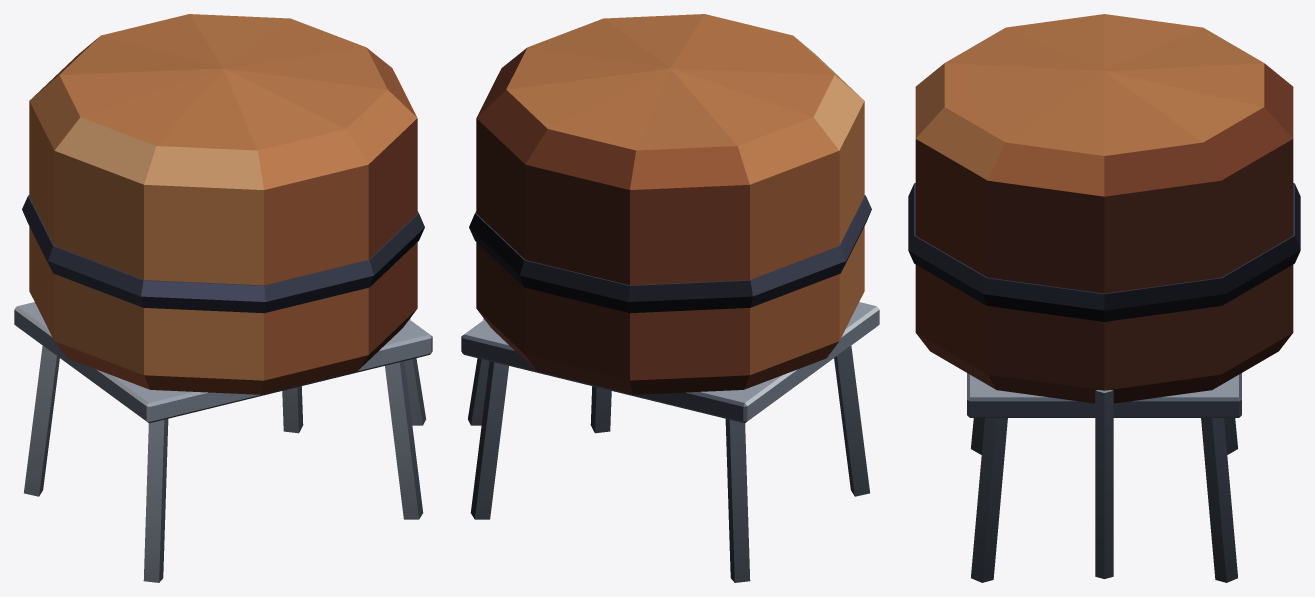
Rendered from roof_tank.glb.
3 views of the same model, side by side, from view 1: azimuth 30°, elevation 25°; view 2: azimuth 150°, elevation 25°; view 3: azimuth 270°, elevation 25° (orthographic).
Parts seen in each view (by area): view 1: roof_tank; view 2: roof_tank; view 3: roof_tank.
Part boxes in pixels (bbox=[...]): roof_tank: bbox=[14, 14, 432, 582]; roof_tank: bbox=[461, 14, 879, 582]; roof_tank: bbox=[908, 14, 1300, 582].
Size of the model in its own units: 0.5818 by 0.6412 by 0.5136.
